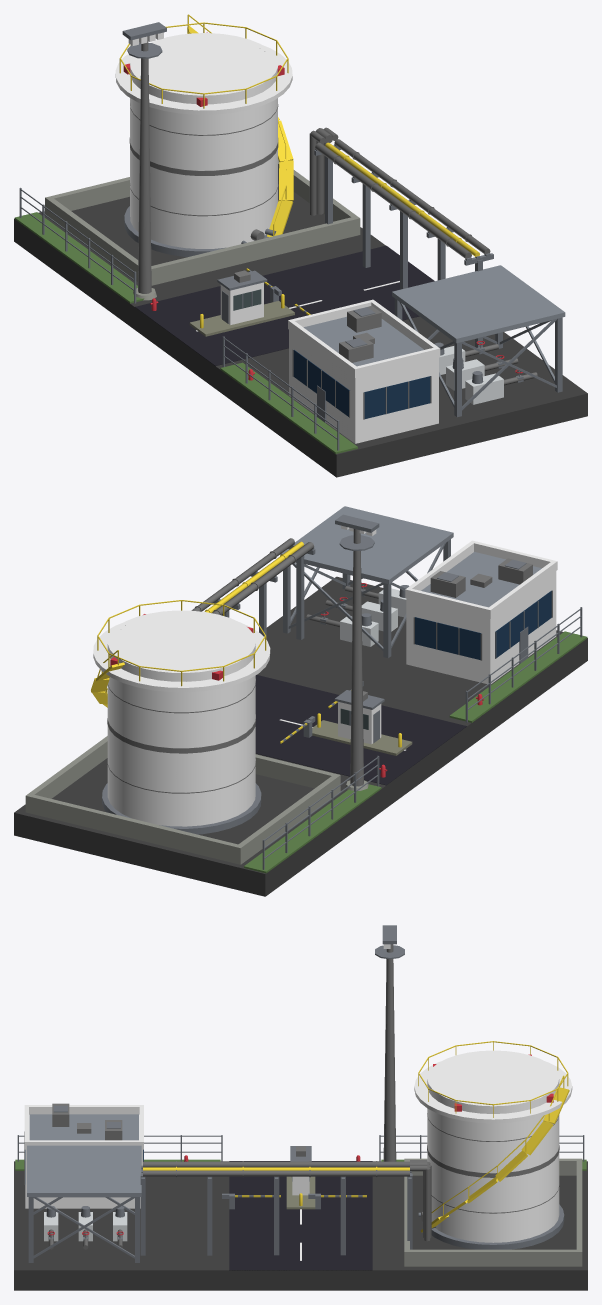
The model's file is port_building_close.fbx.
3 renders of one model, top to bottom at view 1: azimuth 30°, elevation 25°; view 2: azimuth 150°, elevation 25°; view 3: azimuth 270°, elevation 25°, orthographic. The views are drawn at different scales.
Parts seen in each view (by area): view 1: a402_0_port_building_close; view 2: a402_0_port_building_close; view 3: a402_0_port_building_close.
Part boxes in pixels (x1,y1,x2,y2): a402_0_port_building_close: (14, 14, 587, 477); a402_0_port_building_close: (14, 506, 587, 896); a402_0_port_building_close: (14, 925, 587, 1290).
Bounding box in the file's own units: 18 × 19.75 × 40.
